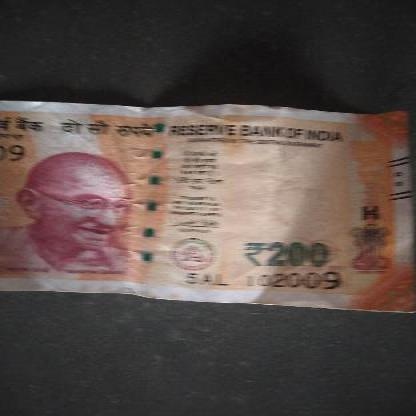New200Front: (0, 102, 415, 307)
